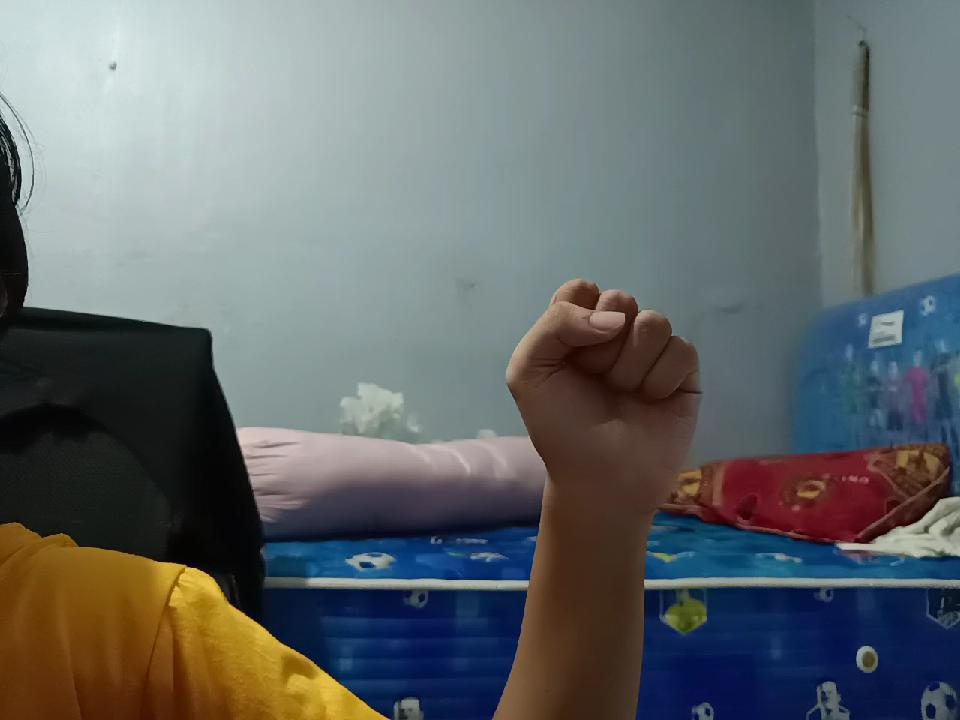rock: (504, 252, 691, 510)
